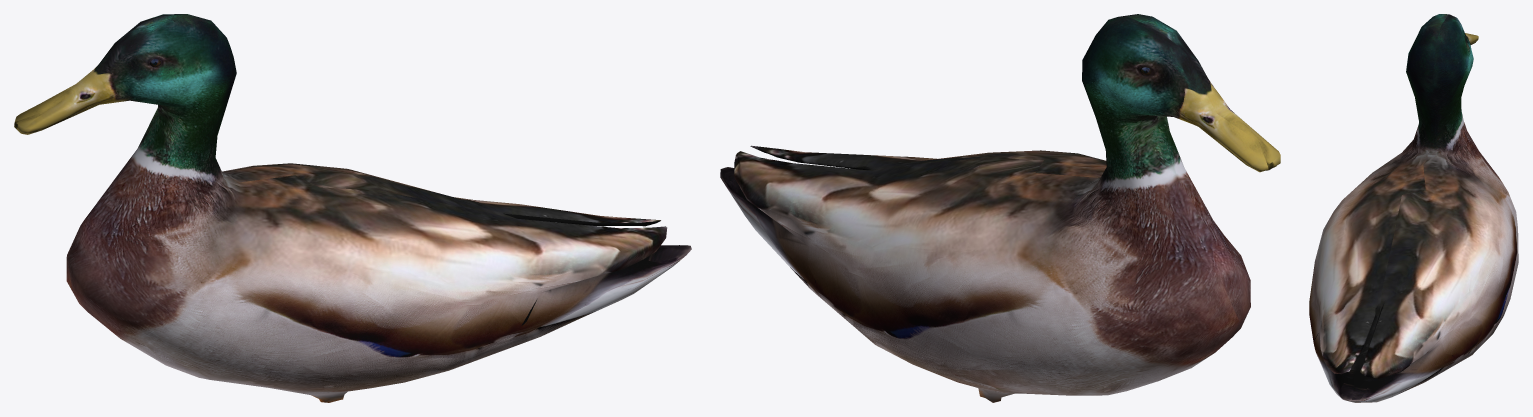
File: duck.obj
3 views of the same model, side by side, from view 1: azimuth 30°, elevation 25°; view 2: azimuth 150°, elevation 25°; view 3: azimuth 270°, elevation 25° (orthographic). The views are drawn at different scales.
Parts seen in each view (by area): view 1: 12248_Bird_v1_L2.003_12248_Bird_v1_L2.006; view 2: 12248_Bird_v1_L2.003_12248_Bird_v1_L2.006; view 3: 12248_Bird_v1_L2.003_12248_Bird_v1_L2.006.
Part boxes in pixels (box(x1,y1,x2,y2)): 12248_Bird_v1_L2.003_12248_Bird_v1_L2.006: box(14, 14, 691, 402); 12248_Bird_v1_L2.003_12248_Bird_v1_L2.006: box(720, 14, 1280, 402); 12248_Bird_v1_L2.003_12248_Bird_v1_L2.006: box(1309, 14, 1518, 402).
Size of the model in its own units: 0.2272 by 0.1381 by 0.094.
